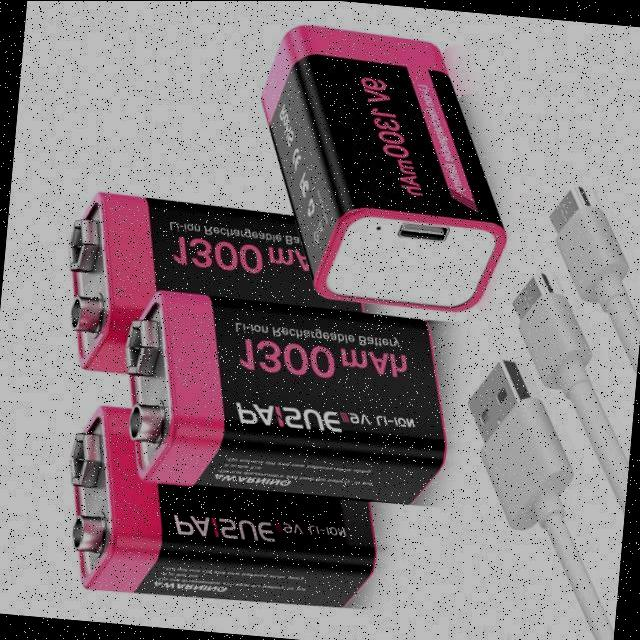9V: (262, 27, 506, 314), (124, 290, 445, 505), (68, 404, 375, 607)
